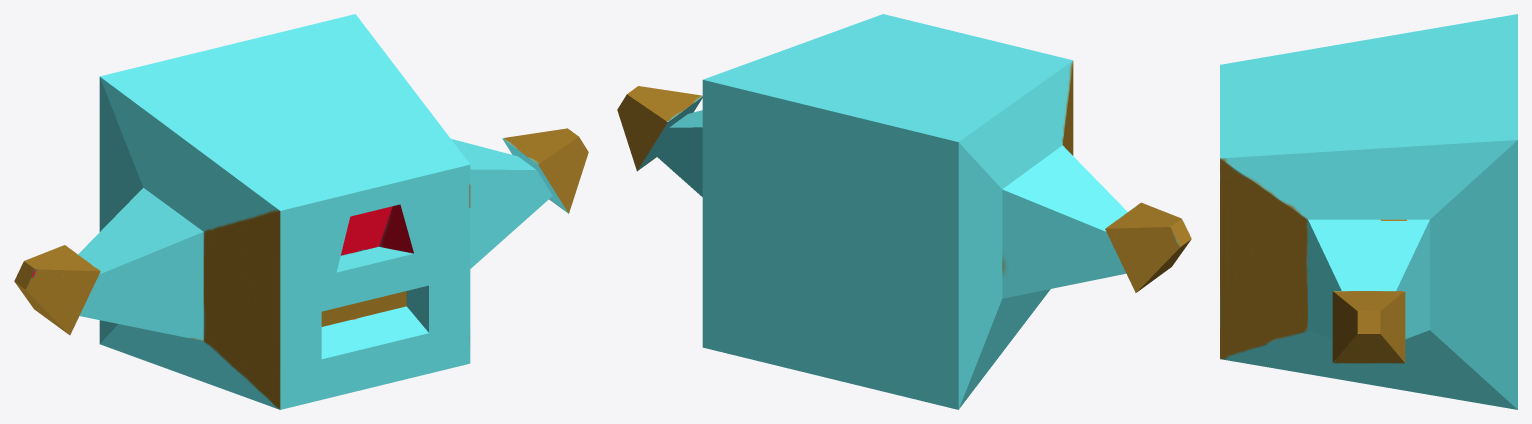
Rendered from Enemy 1.fbx.
The picture shows the model from 3 angles, left to right: view 1: azimuth 30°, elevation 25°; view 2: azimuth 150°, elevation 25°; view 3: azimuth 270°, elevation 25°; orthographic projection.
Parts seen in each view (by area): view 1: Cube; view 2: Cube; view 3: Cube.
Part boxes in pixels (x1,y1,x2,y2): Cube: (14,14,588,409); Cube: (617,14,1191,409); Cube: (1220,14,1517,409).
Size of the model in its own units: 440 by 200 by 200.
